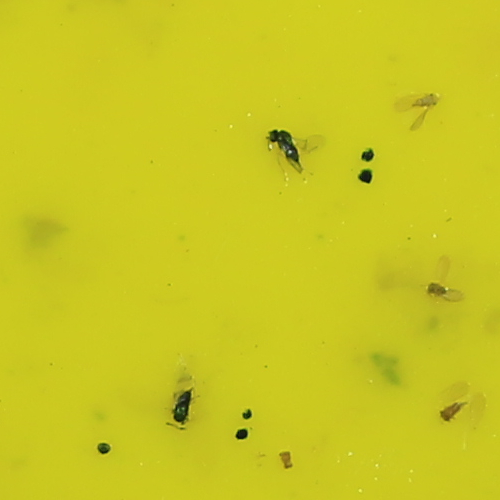Glycaspis: (266, 130, 301, 167), (173, 387, 196, 426)
Platyobria: (439, 400, 470, 422), (413, 89, 442, 106)
